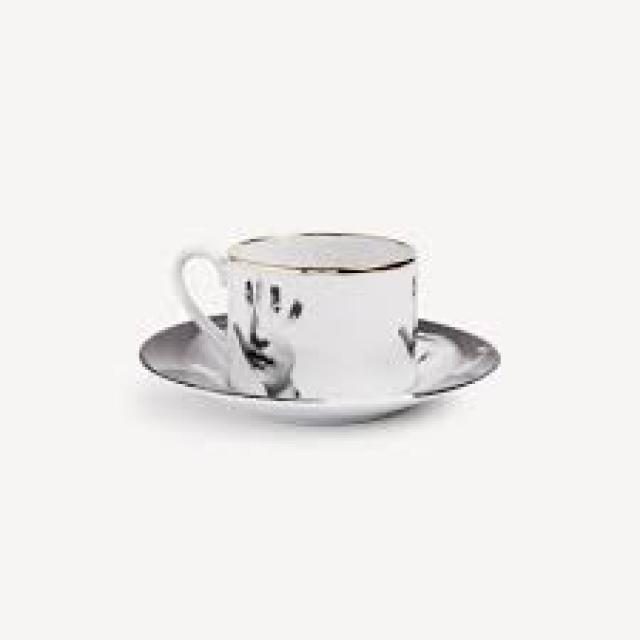taza: (152, 222, 432, 392)
